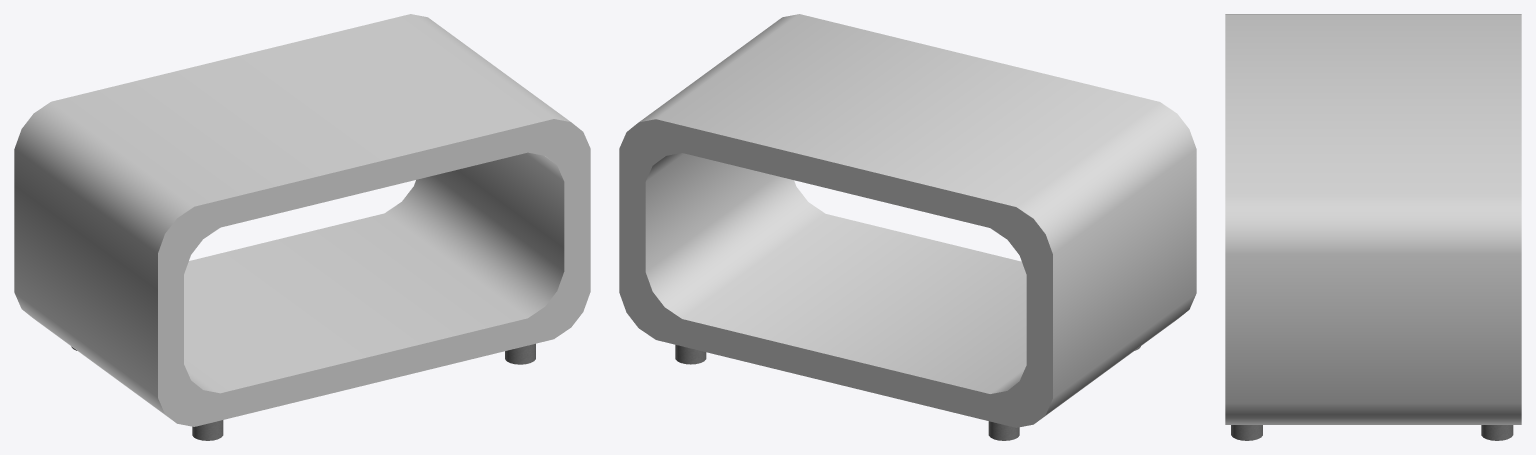
The model's file is Modern stand.FBX.
3 views of the same model, side by side, from view 1: azimuth 30°, elevation 25°; view 2: azimuth 150°, elevation 25°; view 3: azimuth 270°, elevation 25° (orthographic). The views are drawn at different scales.
Visible parts, largest first — view 1: Modern stand; view 2: Modern stand; view 3: Modern stand.
Boxes of the visible parts, x1,y1,x2,y2 form: Modern stand: [14, 14, 590, 440]; Modern stand: [619, 14, 1196, 440]; Modern stand: [1225, 14, 1521, 440].
Size of the model in its own units: 113 by 60.26 by 64.91.
2 materials, 1 textured.
